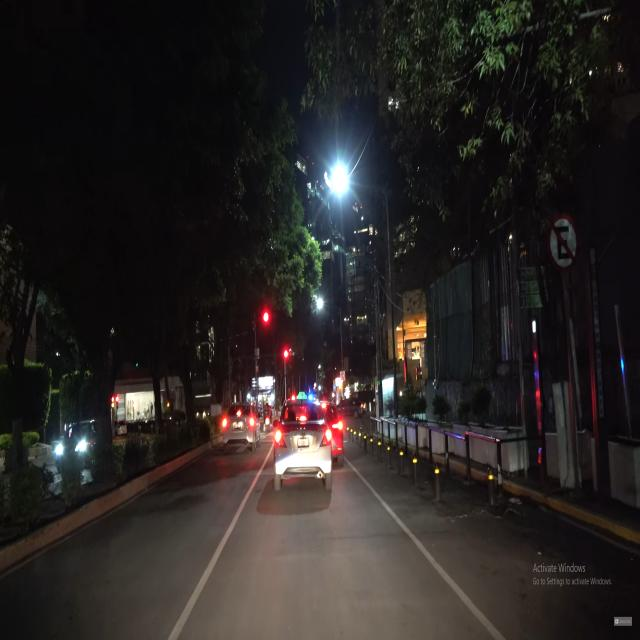headlights: (52, 437, 90, 464)
